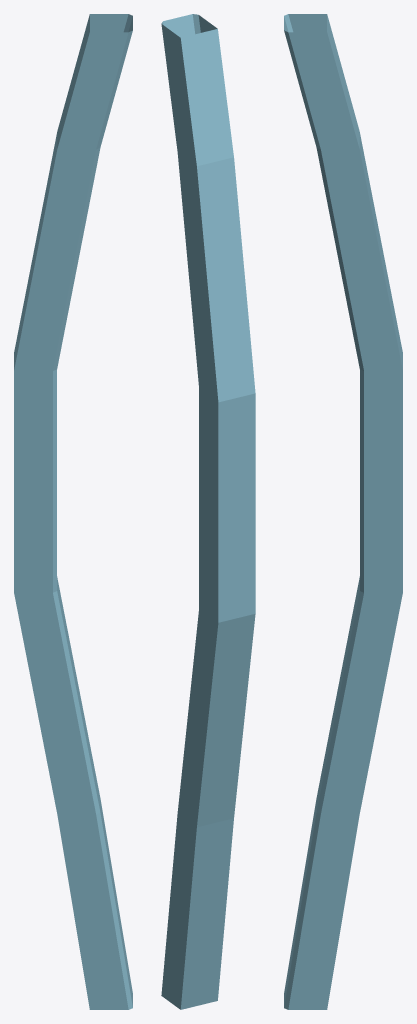
File: sidewallPillar.FBX
3 views of the same model, side by side, from view 1: azimuth 90°, elevation 25°; view 2: azimuth 210°, elevation 25°; view 3: azimuth 270°, elevation 25° (orthographic).
Parts seen in each view (by area): view 1: sidewallPillar; view 2: sidewallPillar; view 3: sidewallPillar.
Boxes of the visible parts, x1,y1,x2,y2 form: sidewallPillar: (14,14,132,1009); sidewallPillar: (161,14,255,1009); sidewallPillar: (284,14,402,1009).
Size of the model in its own units: 0.1 by 2.5 by 0.2757.
